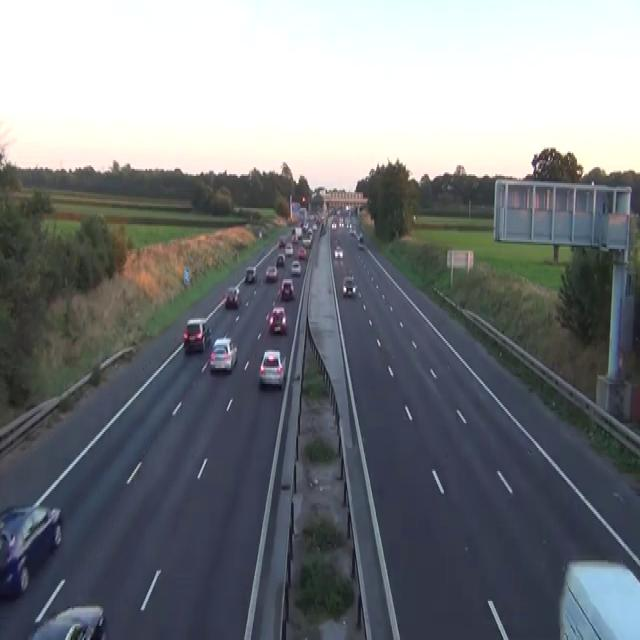Car: (558, 558, 639, 638), (0, 503, 62, 599), (26, 604, 107, 638), (258, 348, 285, 388), (209, 336, 237, 372), (183, 318, 211, 352), (268, 306, 287, 334), (225, 286, 239, 310), (342, 275, 357, 297), (280, 278, 294, 300), (265, 265, 277, 281), (245, 266, 256, 282), (290, 260, 301, 276), (333, 243, 343, 260), (276, 252, 285, 266), (297, 246, 306, 260), (284, 244, 293, 256), (357, 233, 364, 247), (319, 222, 326, 235), (302, 237, 311, 247), (278, 237, 285, 247), (348, 222, 354, 233), (446, 182, 454, 190), (338, 218, 344, 228), (349, 228, 356, 236), (331, 220, 336, 230), (345, 218, 350, 228), (358, 233, 363, 242), (258, 228, 262, 238), (312, 222, 317, 230), (413, 213, 416, 224)
